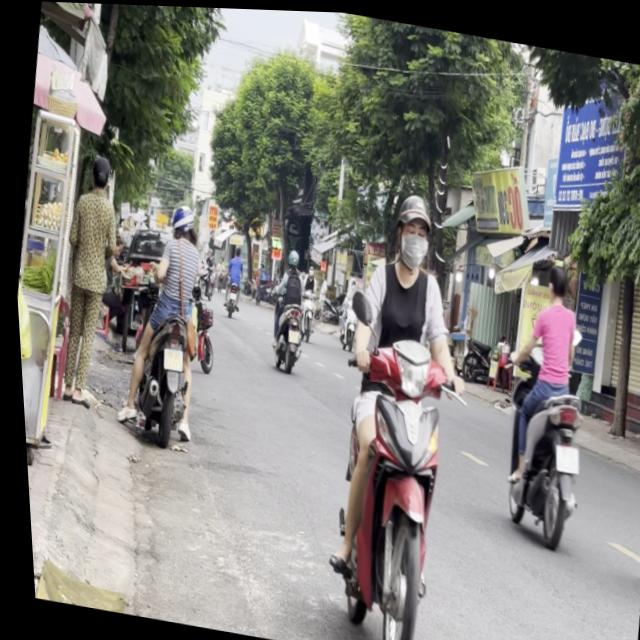helmet: (386, 187, 437, 267), (167, 202, 198, 242)
licenseplate: (291, 175, 498, 640), (480, 250, 609, 547), (105, 191, 223, 452)
motorcyclist: (541, 258, 570, 302)
nohelmet: (548, 440, 577, 470), (157, 347, 182, 370)
